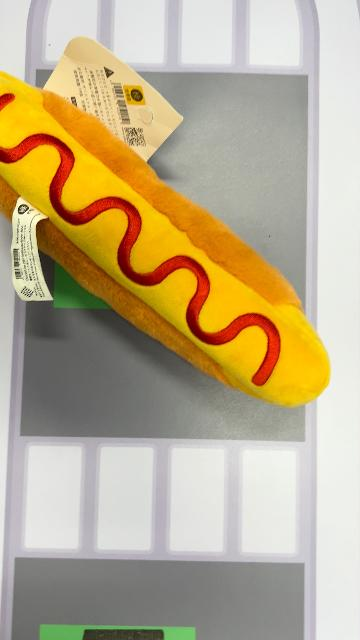hotdog: (2, 70, 332, 410)
